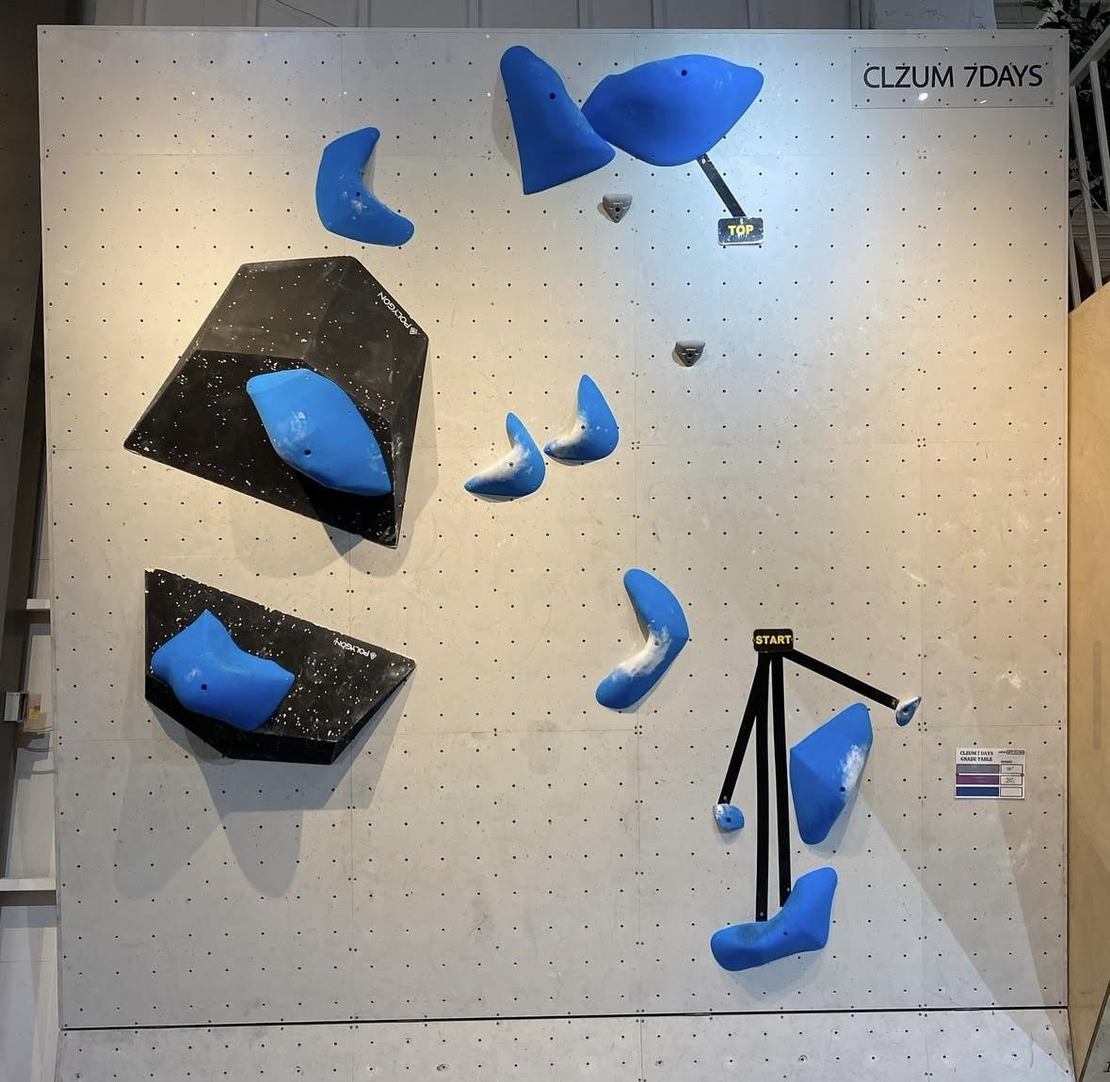hold: (582, 55, 763, 166), (247, 369, 391, 496), (152, 610, 294, 730), (501, 46, 613, 194), (596, 568, 688, 711), (712, 867, 837, 971), (315, 127, 413, 246), (790, 703, 872, 845), (541, 374, 619, 465), (464, 413, 544, 500), (601, 193, 632, 222), (713, 804, 744, 831), (895, 696, 921, 726), (674, 340, 704, 366)
volume: (124, 258, 426, 547), (145, 570, 414, 763)
